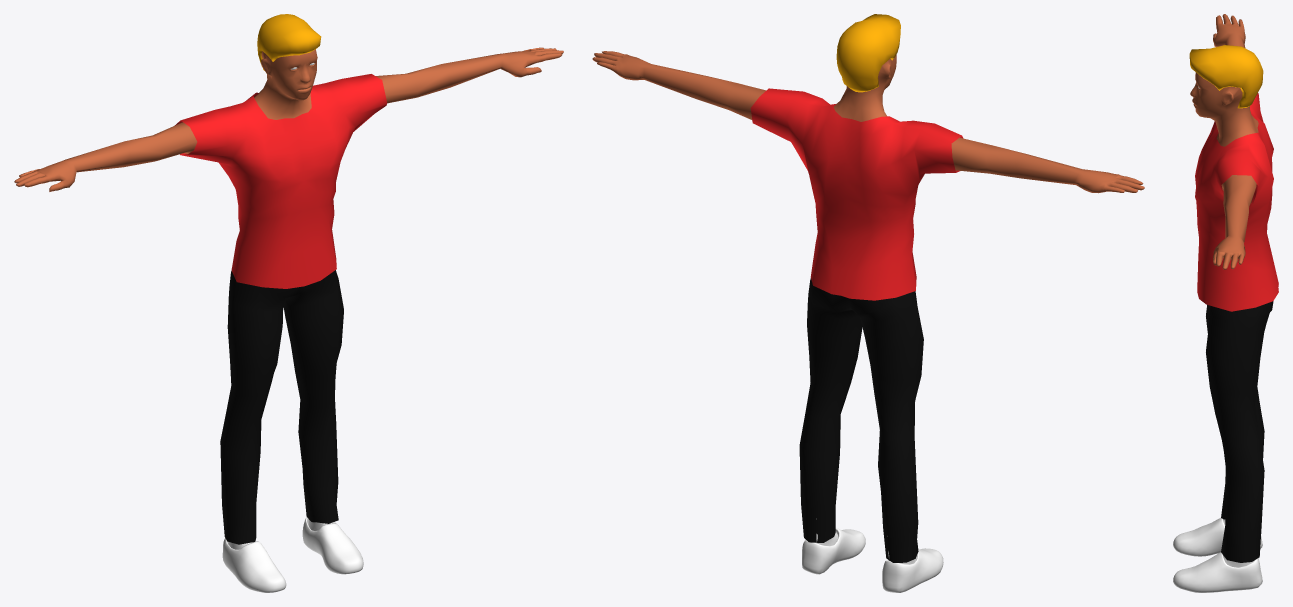
File: Man 13.obj
3 renders of one model, left to right at view 1: azimuth 30°, elevation 25°; view 2: azimuth 150°, elevation 25°; view 3: azimuth 270°, elevation 25°, orthographic. The views are drawn at different scales.
Parts seen in each view (by area): view 1: Human:Male1591.001, Human:Male1591.002, Human:Male1591, Human:Shoes05, Human:Male1591.003_Human:Male1591.005; view 2: Human:Male1591.001, Human:Male1591.002, Human:Male1591, Human:Shoes05, Human:Male1591.003_Human:Male1591.005; view 3: Human:Male1591.002, Human:Male1591.001, Human:Male1591, Human:Shoes05, Human:Male1591.003_Human:Male1591.005.
Boxes of the visible parts, x1,y1,x2,y2 form: Human:Male1591.001: (174,74,387,288); Human:Male1591.002: (220,270,343,544); Human:Male1591: (14,47,563,191); Human:Shoes05: (222,517,363,592); Human:Male1591.003_Human:Male1591.005: (257,14,321,73); Human:Male1591.001: (750,88,963,300); Human:Male1591.002: (799,278,923,562); Human:Male1591: (592,51,1144,193); Human:Shoes05: (802,518,943,592); Human:Male1591.003_Human:Male1591.005: (836,14,900,92); Human:Male1591.002: (1206,301,1273,562); Human:Male1591.001: (1195,93,1278,311); Human:Male1591: (1190,14,1258,269); Human:Shoes05: (1173,518,1262,592); Human:Male1591.003_Human:Male1591.005: (1189,45,1263,108).
Size of the model in its own units: 19.93 by 19.06 by 3.51.
